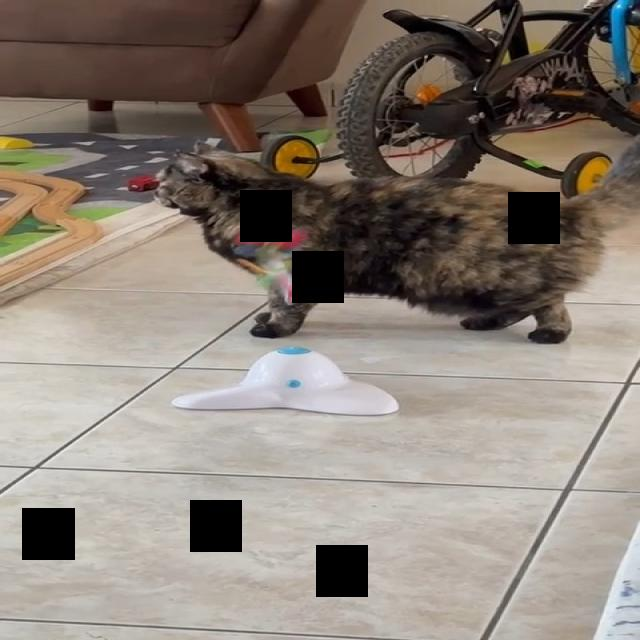authorized: (151, 134, 638, 344)
